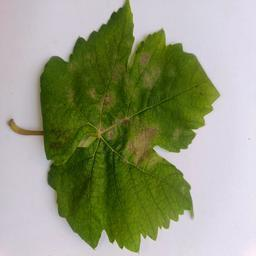Powdery-Mildew: (123, 124, 158, 171), (78, 124, 116, 149), (134, 65, 163, 97), (99, 93, 116, 109), (167, 125, 184, 141), (135, 49, 151, 65)
